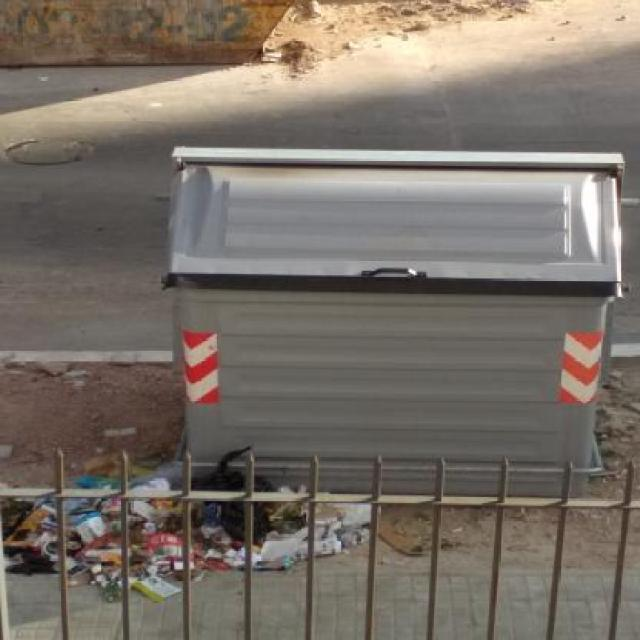garbage: (6, 471, 379, 598)
